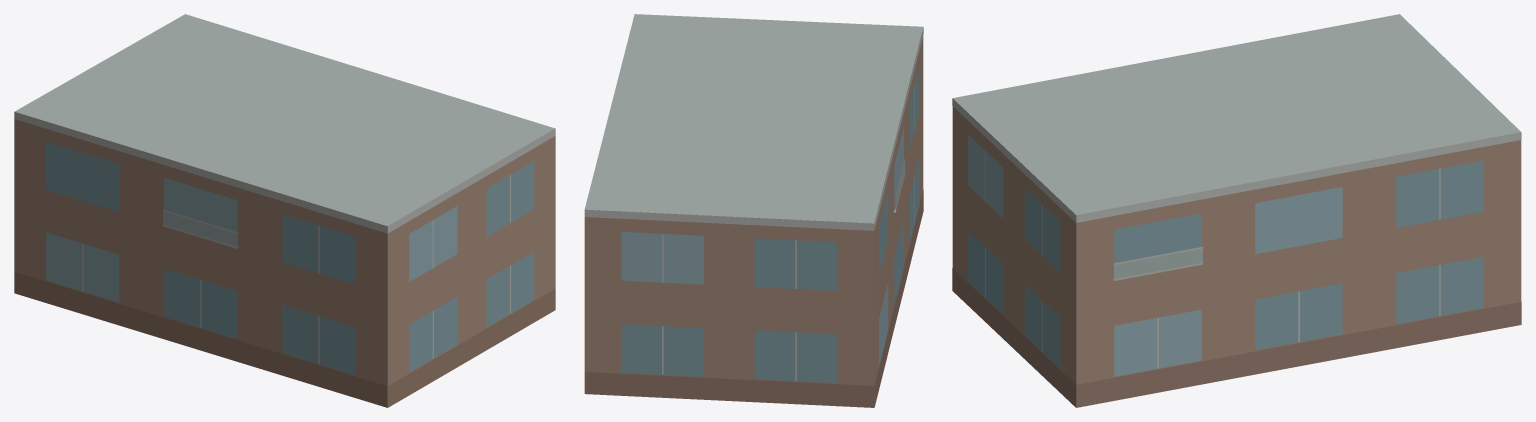
File: survey-upis-32703948.glb
The picture shows the model from 3 angles, left to right: view 1: azimuth 30°, elevation 25°; view 2: azimuth 150°, elevation 25°; view 3: azimuth 270°, elevation 25°; orthographic projection. The views are drawn at different scales.
Parts seen in each view (by area): view 1: survey-upis-32703948.tmp; view 2: survey-upis-32703948.tmp; view 3: survey-upis-32703948.tmp.
Boxes of the visible parts, <box> form: survey-upis-32703948.tmp: <box>14,14,555,407</box>; survey-upis-32703948.tmp: <box>584,14,923,407</box>; survey-upis-32703948.tmp: <box>952,14,1521,407</box>.
Size of the model in its own units: 13.68 by 6.1 by 16.34.
